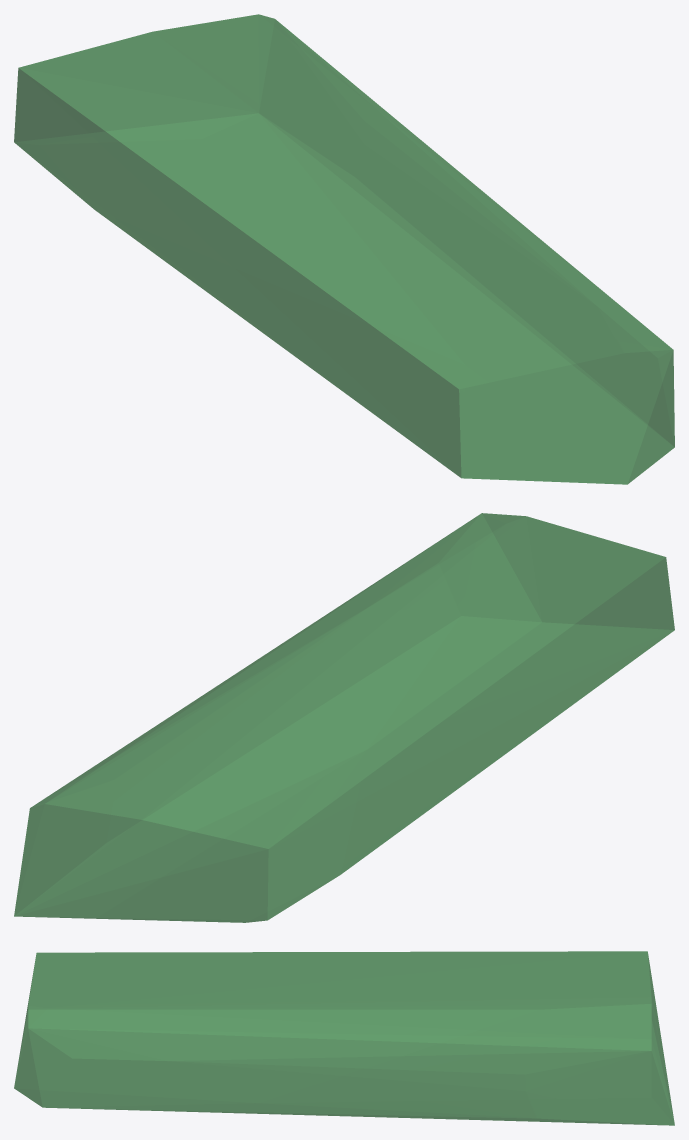
3 views of the same model, one above another, from view 1: azimuth 30°, elevation 25°; view 2: azimuth 150°, elevation 25°; view 3: azimuth 270°, elevation 25° (orthographic). The views are drawn at different scales.
Visible parts, largest first — view 1: Shape_IndexedFaceSet.003_Shape_IndexedFaceSet.18226; view 2: Shape_IndexedFaceSet.003_Shape_IndexedFaceSet.18226; view 3: Shape_IndexedFaceSet.003_Shape_IndexedFaceSet.18226.
Part boxes in pixels (bbox=[...]): Shape_IndexedFaceSet.003_Shape_IndexedFaceSet.18226: bbox=[14, 14, 674, 484]; Shape_IndexedFaceSet.003_Shape_IndexedFaceSet.18226: bbox=[14, 513, 674, 922]; Shape_IndexedFaceSet.003_Shape_IndexedFaceSet.18226: bbox=[14, 951, 674, 1125].
Bounding box in the file's own units: 0.1729 × 0.086 × 0.5428.
